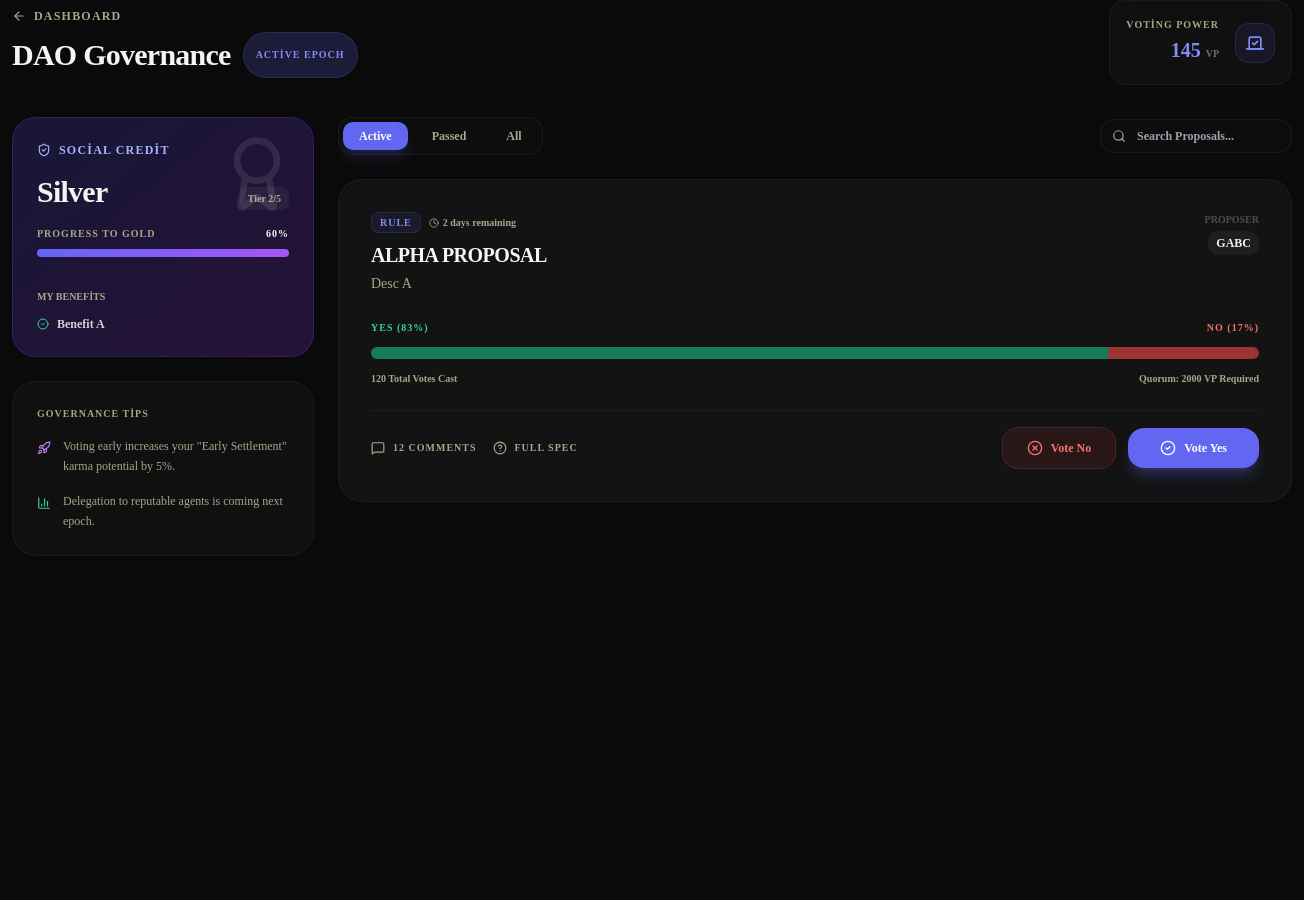
Governance › clicking All filter shows both proposals
Click the button "All" at (514, 136), box [490, 122, 538, 150]
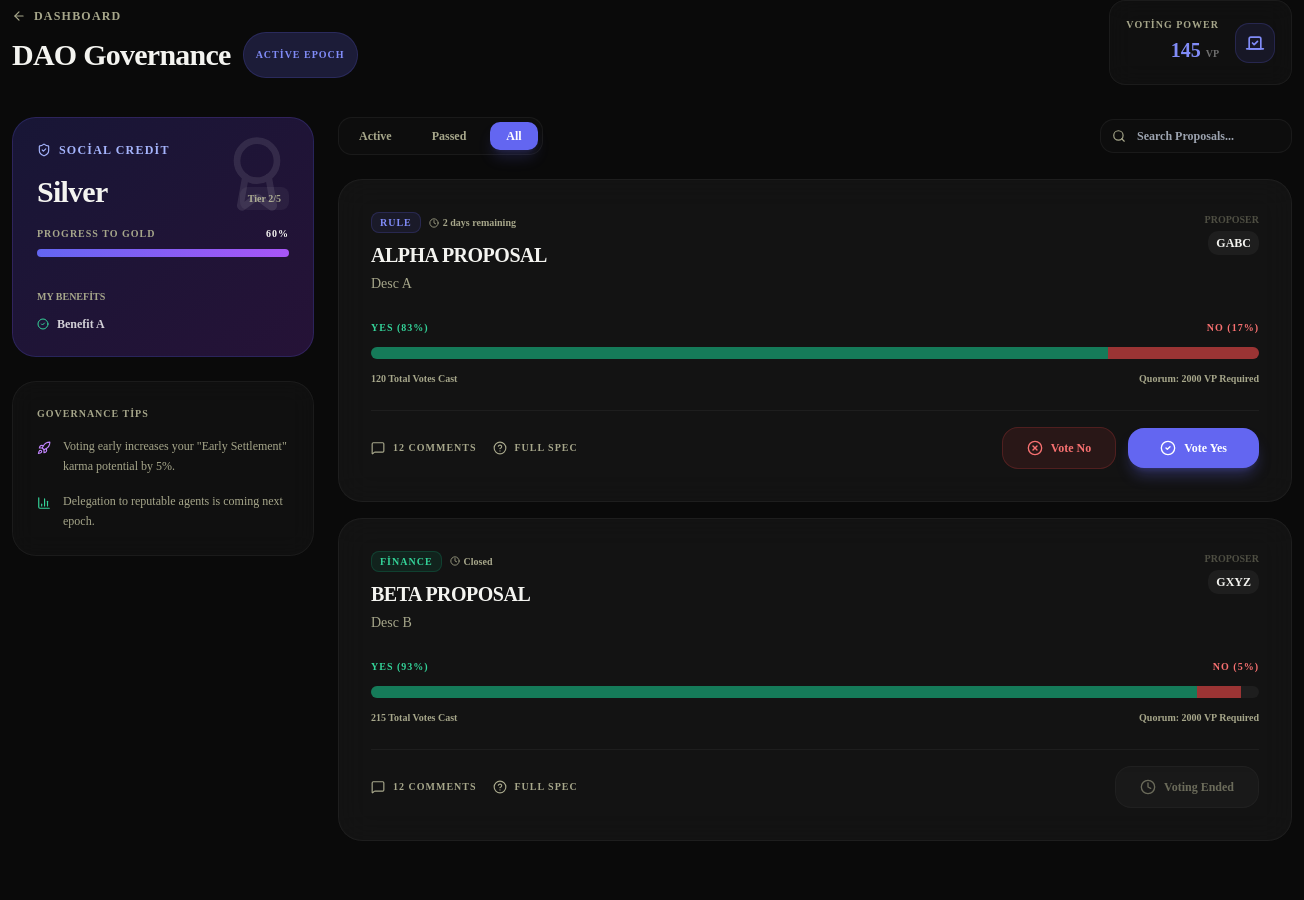
Expected: the heading "Alpha Proposal" is shown, [371, 241, 547, 269]
Result: the heading "Beta Proposal" is shown at [371, 580, 530, 608]
